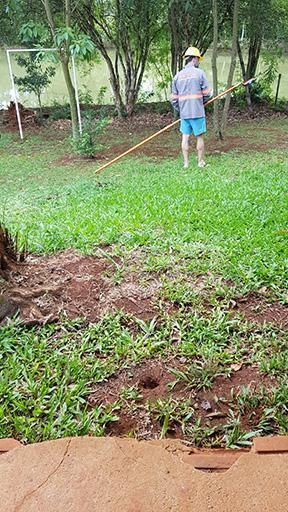helmet: (181, 46, 204, 63)
